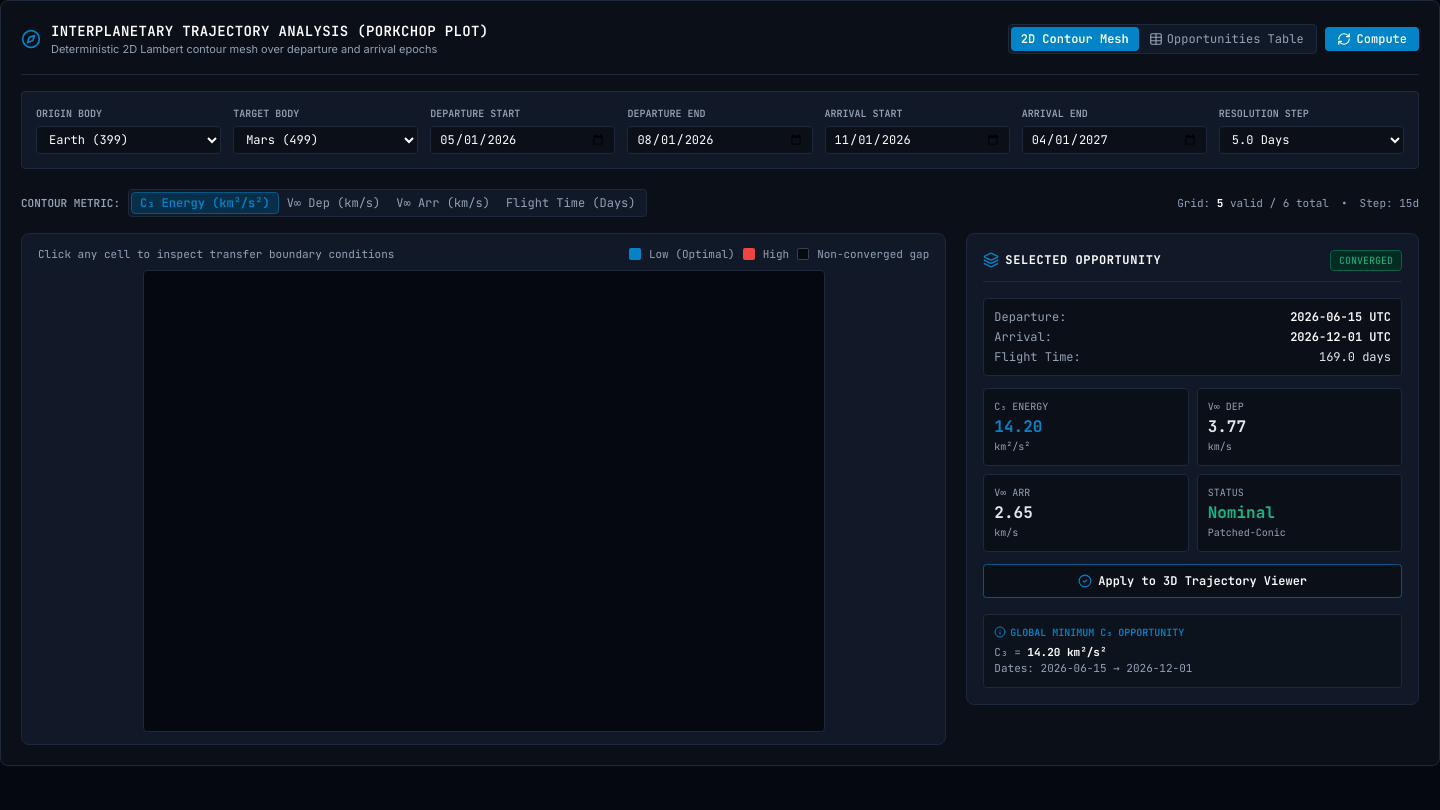
it: PorkchopPlot Component (Astrodynamics Lab) › purges stale plot data and selected opportunity when calculation fails (DEF-03 regression)
expect the element with test id "porkchop-inspector" is shown: met, box 983,298 -> 1402,598
Click the button "Compute". click: x=1372, y=39
box: 1325,27 -> 1419,51
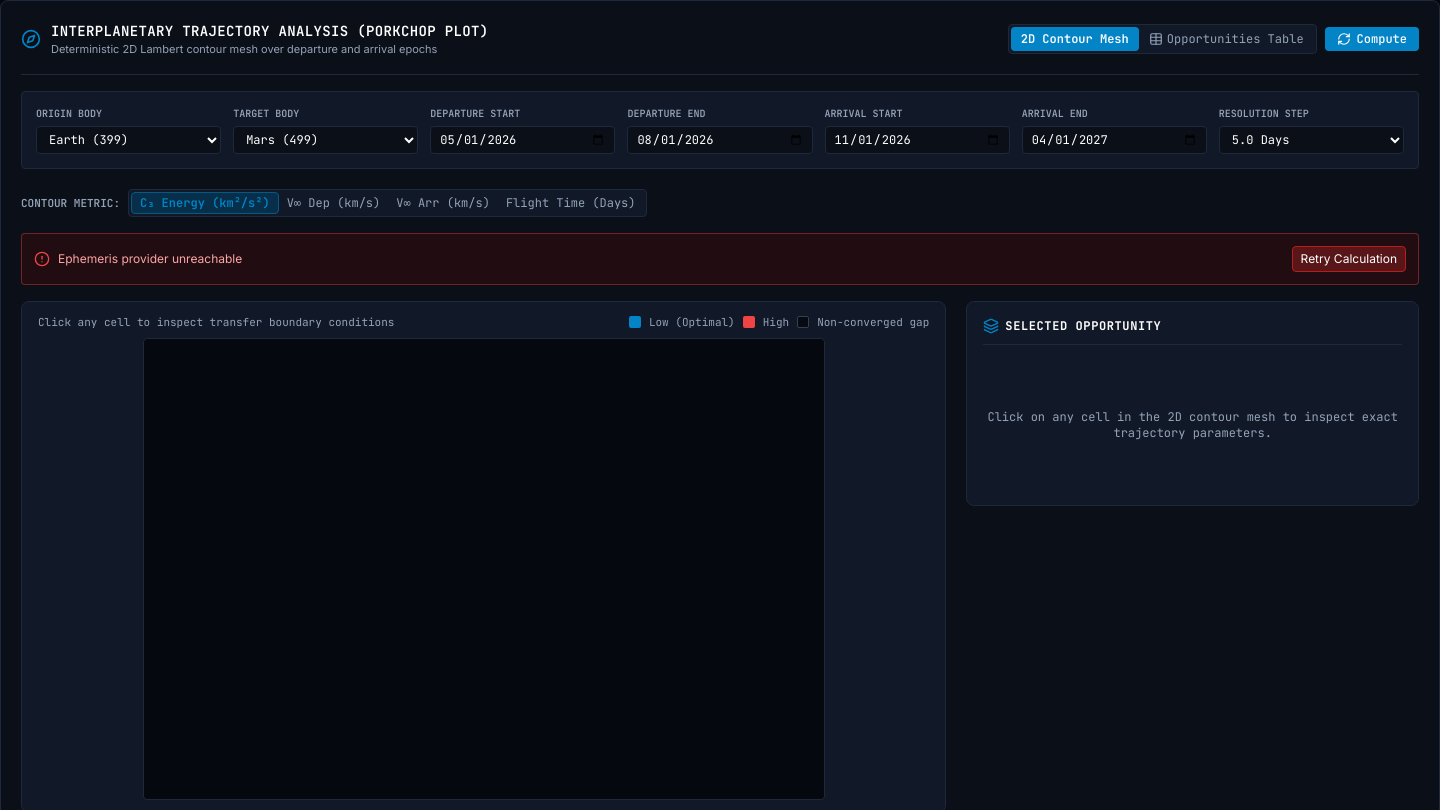
expect the text "Ephemeris provider unreachable" is shown: met, box 58,250 -> 242,266
